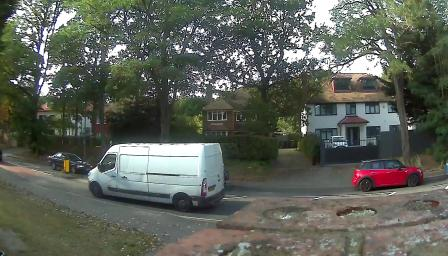Cars: (94, 140, 228, 212), (356, 153, 424, 192), (48, 149, 101, 178)
